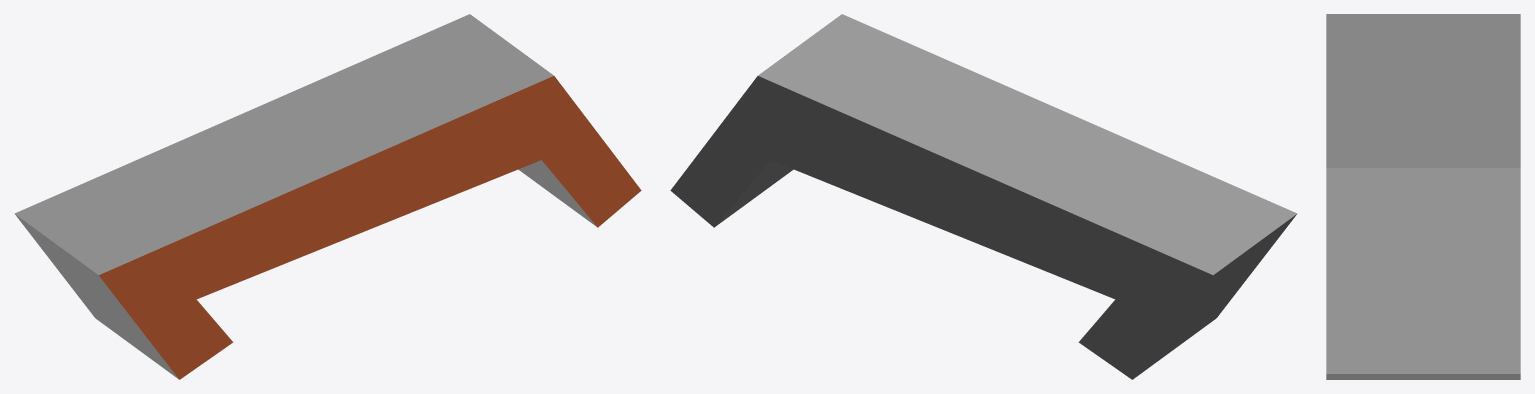
The model's file is construction_4370_assumed_A_Casa_h6m.obj.
3 renders of one model, left to right at view 1: azimuth 30°, elevation 25°; view 2: azimuth 150°, elevation 25°; view 3: azimuth 270°, elevation 25°, orthographic. The views are drawn at different scales.
Parts seen in each view (by area): view 1: construction_4370_assumed_A_Casa; view 2: construction_4370_assumed_A_Casa; view 3: construction_4370_assumed_A_Casa.
Boxes of the visible parts, x1,y1,x2,y2 form: construction_4370_assumed_A_Casa: (14,14,641,379); construction_4370_assumed_A_Casa: (670,14,1297,379); construction_4370_assumed_A_Casa: (1326,14,1520,379).
Bounding box in the file's own units: 22.31 × 8.36 × 6.
